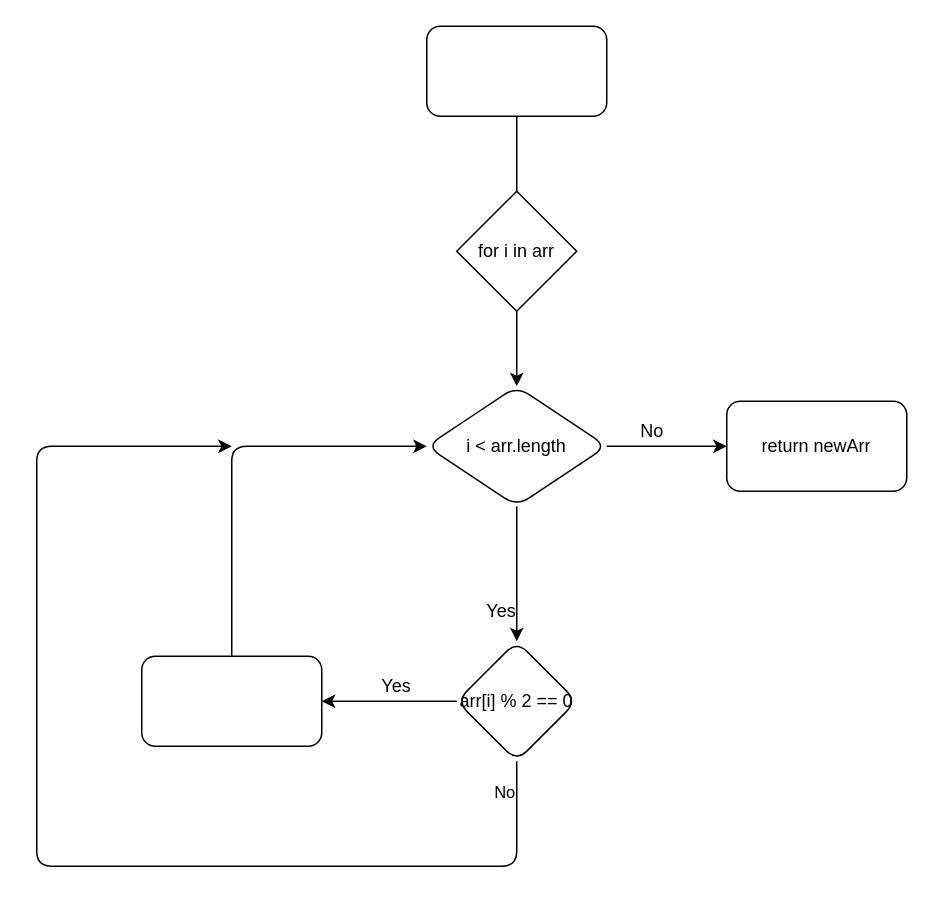
The diagram is 933 pixels wide and 905 high, and some of its shapes have lost their labels. Each missing label, with the centre of its shape:
arr = [] newArr = [] j = 0: (516,70)
newArr[j] = arr[i] j += 1: (231,700)
